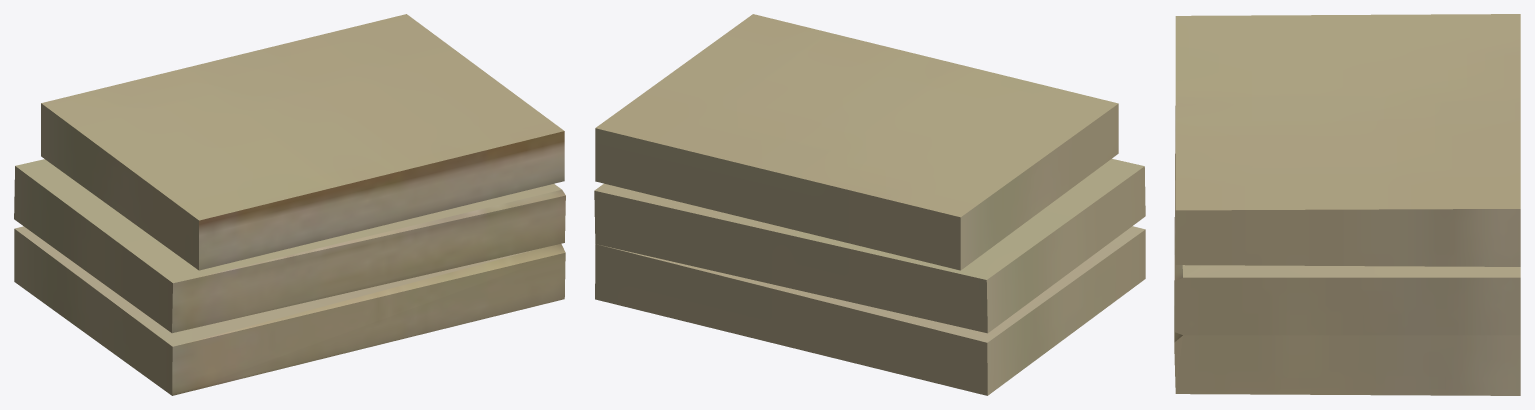
Rendered from book2_h1.dae.
3 renders of one model, left to right at view 1: azimuth 30°, elevation 25°; view 2: azimuth 150°, elevation 25°; view 3: azimuth 270°, elevation 25°, orthographic. The views are drawn at different scales.
Parts seen in each view (by area): view 1: node; view 2: node; view 3: node.
Boxes of the visible parts, bbox=[...] form: node: bbox=[14, 14, 565, 395]; node: bbox=[594, 14, 1145, 395]; node: bbox=[1174, 14, 1520, 395].
Bounding box in the file's own units: 0.1722 × 0.072 × 0.1203.
Materials: 1 (1 with a texture image).
